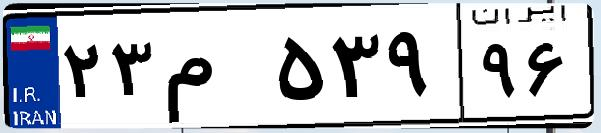2: (57, 26, 110, 100)
3: (330, 28, 385, 110), (110, 28, 158, 98)
5: (270, 28, 330, 110)
6: (525, 38, 570, 115)
9: (385, 28, 445, 110), (475, 38, 525, 113)
م: (158, 20, 270, 120)
